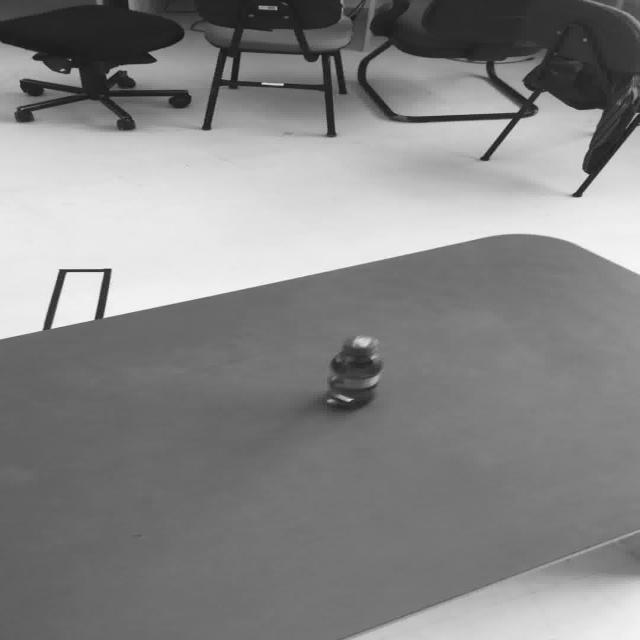guarana: (322, 333, 382, 408), (327, 334, 382, 389)
